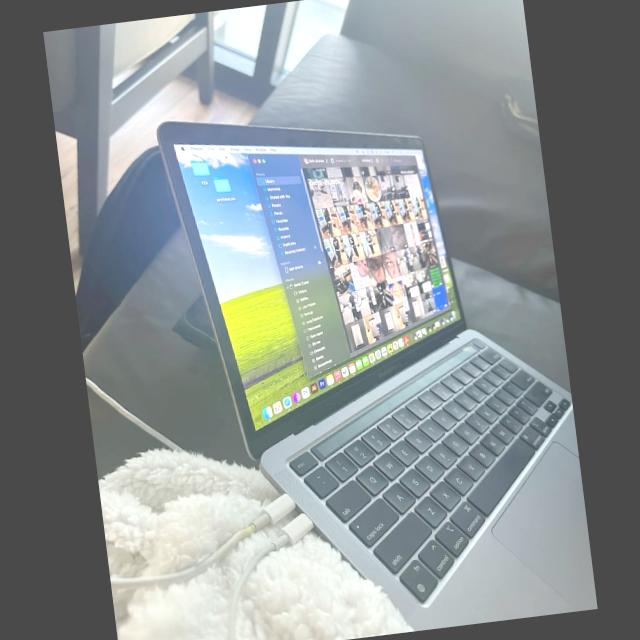laptop: (154, 72, 589, 590)
